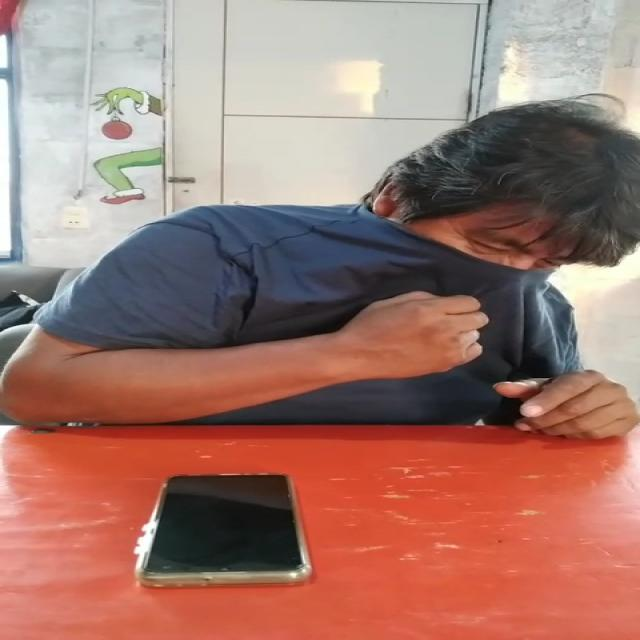8_ropa_rostro: (247, 214, 544, 366)
